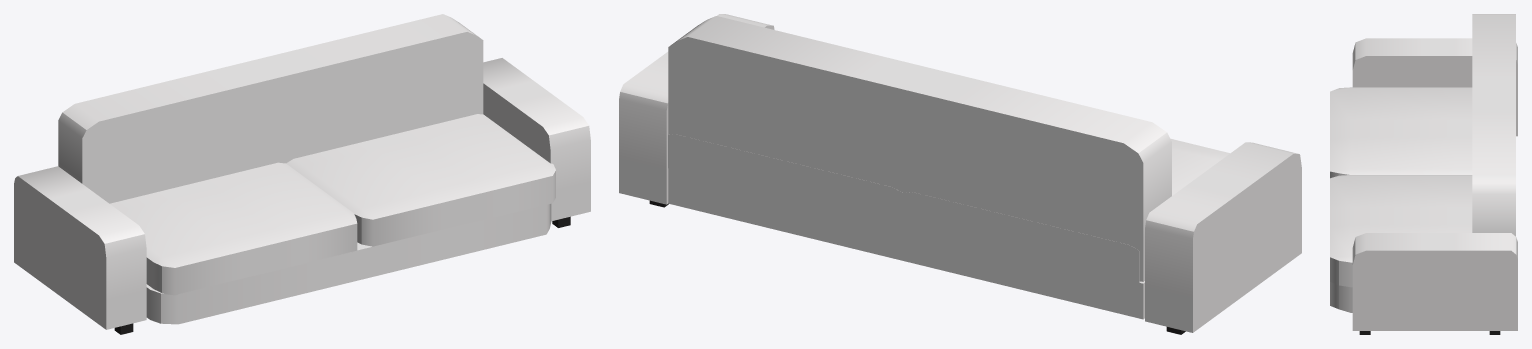
Rendered from sofa.FBX.
The picture shows the model from 3 angles, left to right: view 1: azimuth 30°, elevation 25°; view 2: azimuth 150°, elevation 25°; view 3: azimuth 270°, elevation 25°; orthographic projection. The views are drawn at different scales.
Visible parts, largest first — view 1: Box002, Box010, Box009, Box004, Box001, Box003; view 2: Box002, Box004, Box001, Box009, Box010, Box003; view 3: Box003, Box009, Box002, Box010, Box004, Box001.
Part boxes in pixels (x1,y1,x2,y2): Box002: (58, 14, 483, 203); Box010: (286, 114, 555, 246); Box009: (110, 162, 357, 295); Box004: (14, 166, 146, 329); Box001: (146, 204, 551, 324); Box003: (483, 58, 590, 221); Box002: (668, 16, 1171, 281); Box004: (1145, 142, 1301, 332); Box001: (668, 168, 1144, 319); Box009: (902, 138, 1229, 282); Box010: (668, 134, 902, 224); Box003: (619, 14, 774, 204); Box003: (1352, 233, 1517, 330); Box009: (1330, 87, 1472, 178); Box002: (1472, 14, 1515, 236); Box010: (1330, 175, 1472, 287); Box004: (1352, 38, 1517, 136); Box001: (1330, 282, 1352, 312).
Bounding box in the file's own units: 53.4 × 16.58 × 19.98.
Materials: 2 (2 with a texture image).
